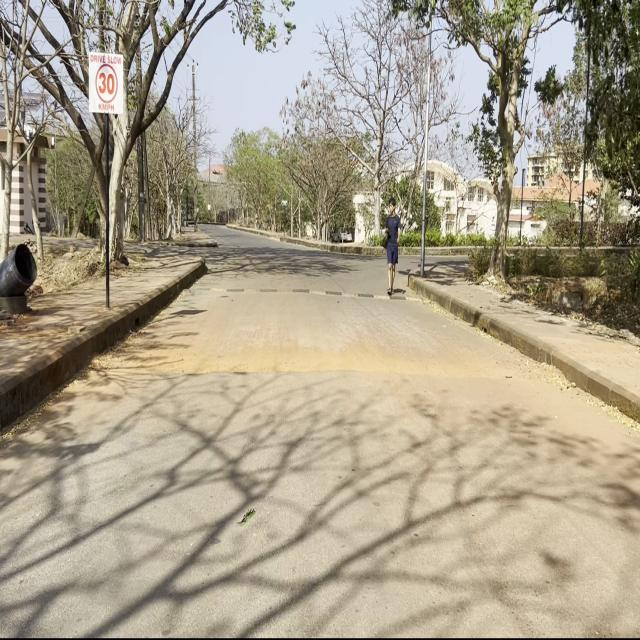Object: (385, 193, 401, 298)
Road: (2, 240, 639, 632)
